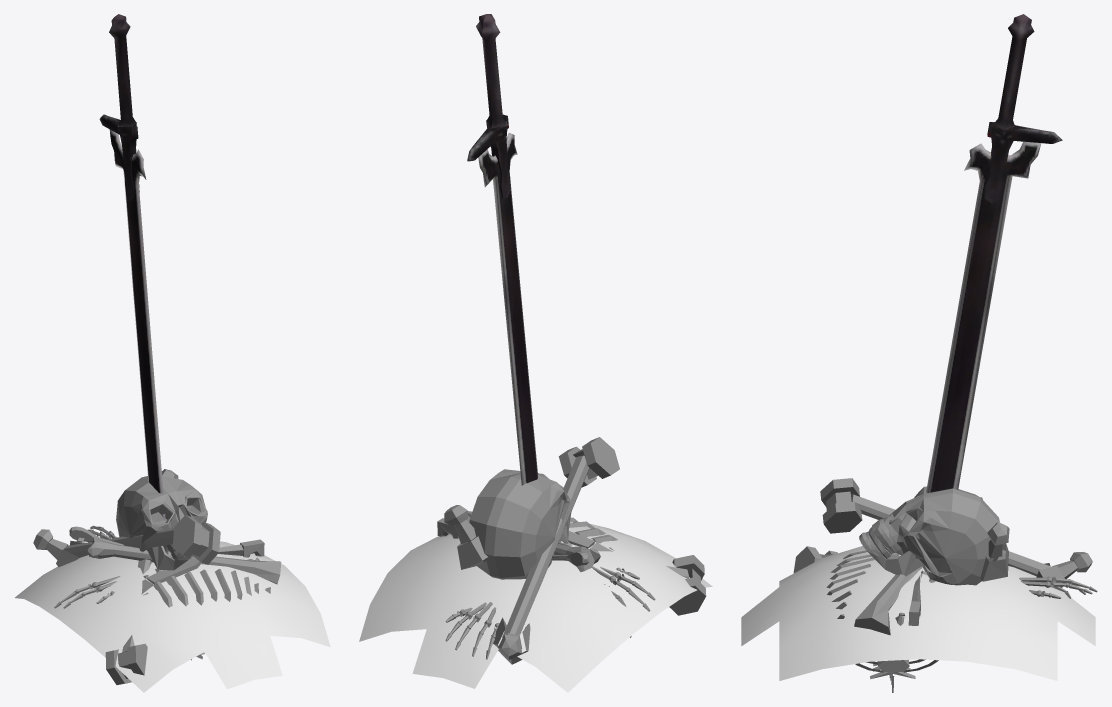
3 renders of one model, left to right at view 1: azimuth 30°, elevation 25°; view 2: azimuth 150°, elevation 25°; view 3: azimuth 270°, elevation 25°, orthographic. The views are drawn at different scales.
Visible parts, largest first — view 1: Sphere001, DrawCall_0120, SKULL_HE01, LFEMUR01, THORAX01, RLOW_LEG01, RFEMUR01, MANDIBLE01, RLOW_ARM01, RHAND01; view 2: Sphere001, DrawCall_0120, SKULL_HE01, LFEMUR01, RFEMUR01, LHAND01, THORAX01, RLOW_LEG01, RHAND01; view 3: Sphere001, DrawCall_0120, SKULL_HE01, LFEMUR01, THORAX01, RFEMUR01, RLOW_LEG01, MANDIBLE01, LHAND01.
Part boxes in pixels (box(x1,y1,x2,y2)): Sphere001: box(15, 541, 330, 692); DrawCall_0120: box(99, 14, 168, 554); SKULL_HE01: box(116, 476, 207, 553); LFEMUR01: box(33, 515, 220, 567); THORAX01: box(141, 557, 270, 660); RLOW_LEG01: box(69, 526, 281, 584); RFEMUR01: box(105, 469, 178, 684); MANDIBLE01: box(147, 546, 193, 570); RLOW_ARM01: box(218, 539, 264, 560); RHAND01: box(54, 576, 120, 608); Sphere001: box(359, 522, 712, 692); DrawCall_0120: box(467, 14, 537, 485); SKULL_HE01: box(468, 469, 570, 579); LFEMUR01: box(493, 437, 619, 664); RFEMUR01: box(444, 505, 706, 615); LHAND01: box(445, 602, 499, 659); THORAX01: box(561, 517, 631, 637); RLOW_LEG01: box(466, 511, 600, 571); RHAND01: box(592, 566, 655, 611); Sphere001: box(741, 546, 1095, 680); DrawCall_0120: box(926, 14, 1062, 492); SKULL_HE01: box(872, 486, 1002, 585); LFEMUR01: box(820, 478, 1092, 588); THORAX01: box(826, 550, 938, 692); RFEMUR01: box(793, 522, 1009, 581); RLOW_LEG01: box(854, 497, 982, 635); MANDIBLE01: box(859, 527, 923, 576); LHAND01: box(1019, 576, 1097, 598).
Size of the model in its own units: 33.59 by 86.42 by 42.98.
